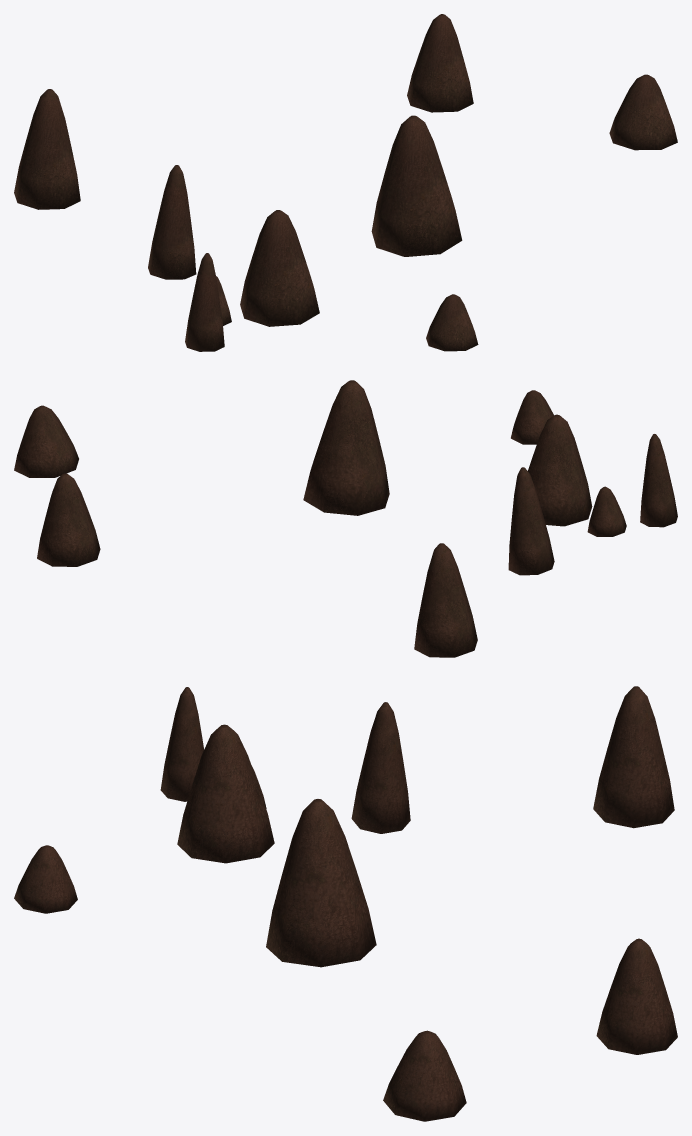
File: baldcypress_knees_v01.glb
The picture shows the model from 3 angles, top to bottom: view 1: azimuth 30°, elevation 25°; view 2: azimuth 150°, elevation 25°; view 3: azimuth 270°, elevation 25°; orthographic projection. The views are drawn at different scales.
Parts seen in each view (by area): view 1: baldcypress_knees_v01; view 2: baldcypress_knees_v01; view 3: baldcypress_knees_v01.
Boxes of the visible parts, x1=… form: baldcypress_knees_v01: x1=14, y1=14, x2=677, y2=351; baldcypress_knees_v01: x1=14, y1=380, x2=677, y2=657; baldcypress_knees_v01: x1=14, y1=686, x2=677, y2=1121.
Size of the model in its own units: 2.74 by 0.5487 by 2.27.
1 material, 1 textured.
